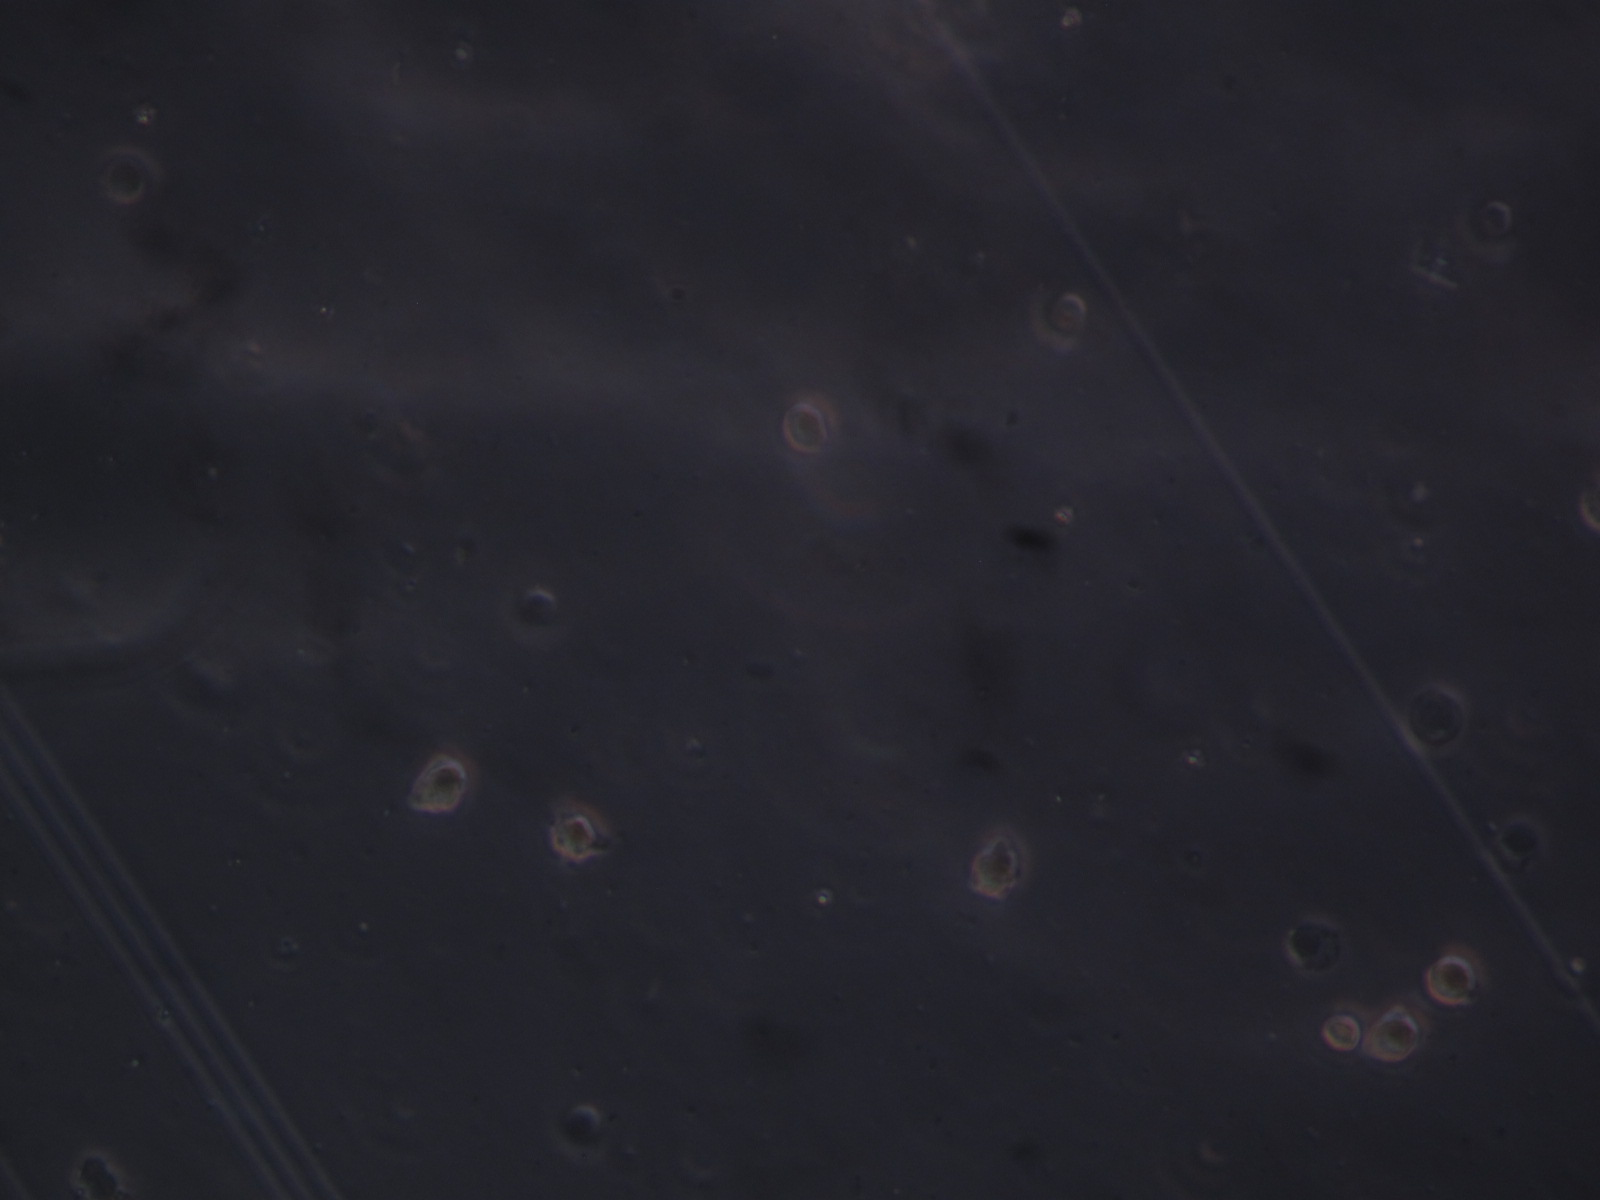hemo: (1402, 684, 1469, 758), (551, 1099, 619, 1165), (406, 751, 467, 817), (547, 800, 609, 866), (1460, 192, 1521, 256), (970, 833, 1029, 899), (1283, 914, 1346, 974), (781, 395, 842, 456), (1425, 942, 1484, 1005), (1029, 287, 1087, 350), (94, 147, 163, 200), (1367, 1000, 1422, 1064), (1322, 1001, 1366, 1058)
